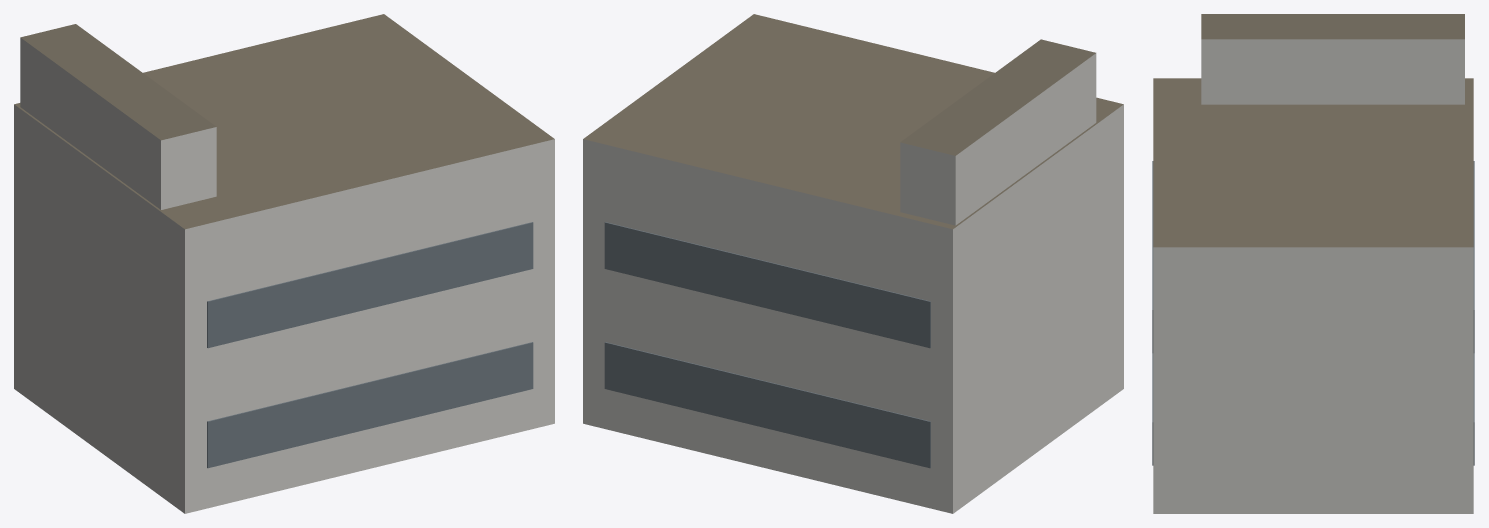
Rendered from coastguard-station.tone-v1.lod2.glb.
The picture shows the model from 3 angles, left to right: view 1: azimuth 30°, elevation 25°; view 2: azimuth 150°, elevation 25°; view 3: azimuth 270°, elevation 25°; orthographic projection. The views are drawn at different scales.
Visible parts, largest first — view 1: coastguard-station; view 2: coastguard-station; view 3: coastguard-station.
Boxes of the visible parts, bbox=[...] form: coastguard-station: bbox=[14, 14, 554, 513]; coastguard-station: bbox=[583, 14, 1123, 513]; coastguard-station: bbox=[1152, 14, 1474, 513].
Size of the model in its own units: 10 by 9.15 by 8.06.
